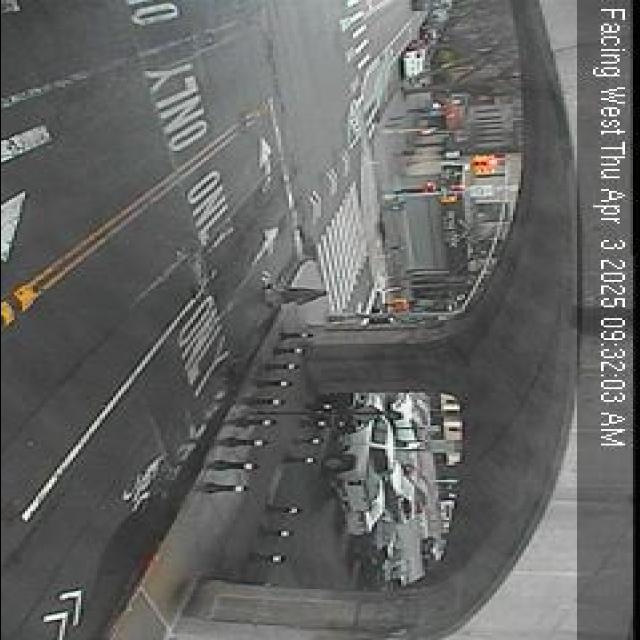open parking: (361, 37, 443, 137)
